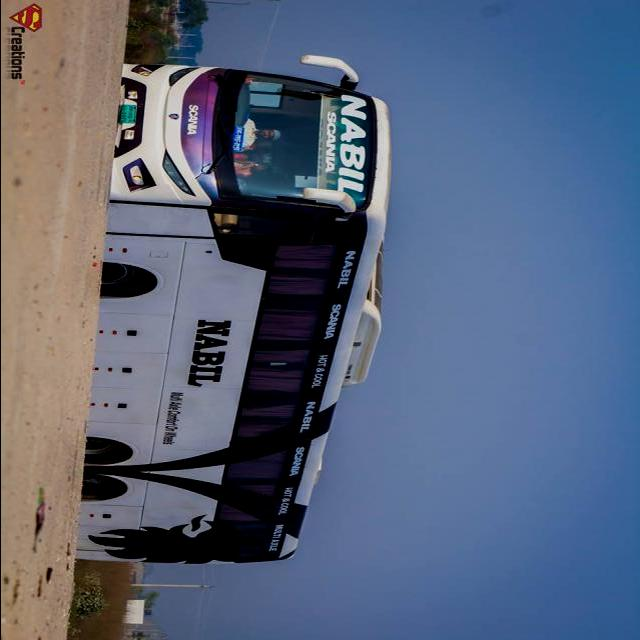bus: (76, 53, 391, 567)
